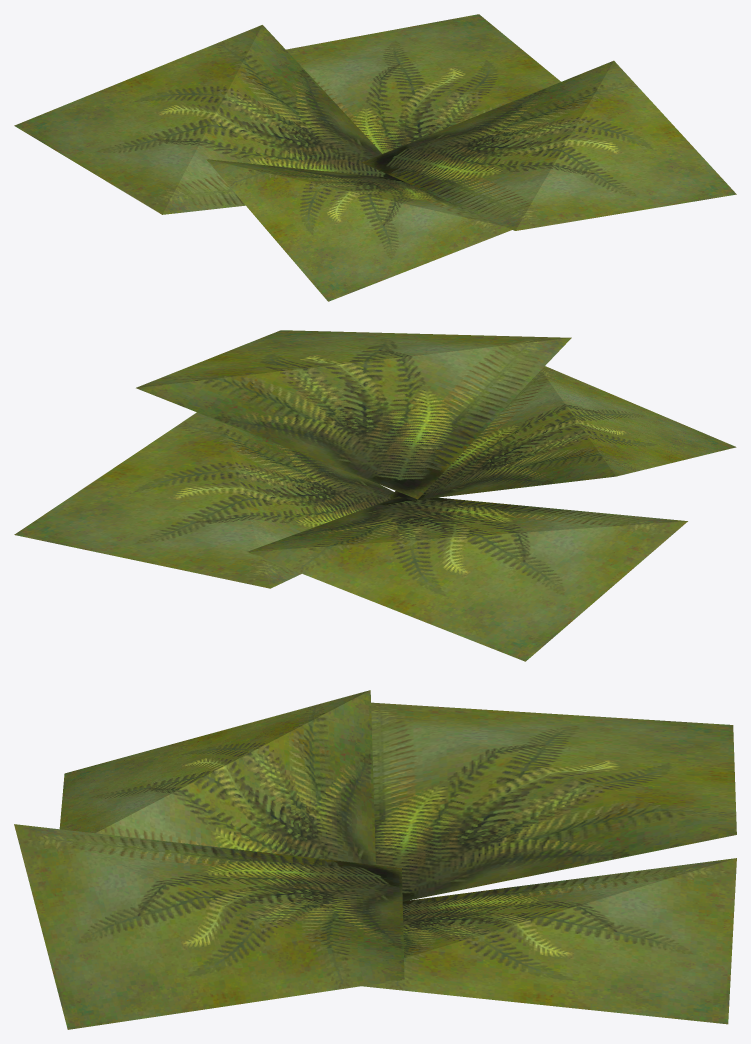
File: frst_fern_olive_sm_l3.fbx
The picture shows the model from 3 angles, top to bottom: view 1: azimuth 30°, elevation 25°; view 2: azimuth 150°, elevation 25°; view 3: azimuth 270°, elevation 25°; orthographic projection. The views are drawn at different scales.
Parts seen in each view (by area): view 1: mesh_node; view 2: mesh_node; view 3: mesh_node.
Boxes of the visible parts, <box> form: mesh_node: <box>14,14,736,301</box>; mesh_node: <box>14,330,736,661</box>; mesh_node: <box>14,690,736,1029</box>.
Bounding box in the file's own units: 2.3 × 0.3695 × 2.28.
